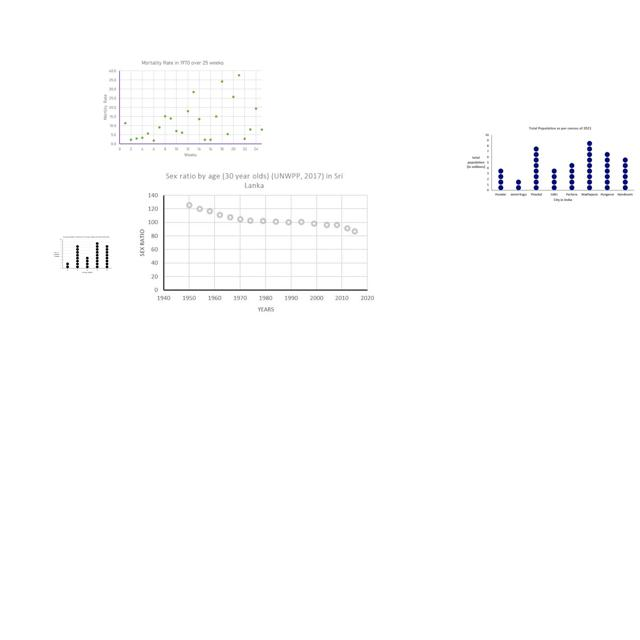Graph: (132, 168, 377, 315), (102, 58, 267, 159), (465, 125, 635, 204), (52, 235, 113, 275)
